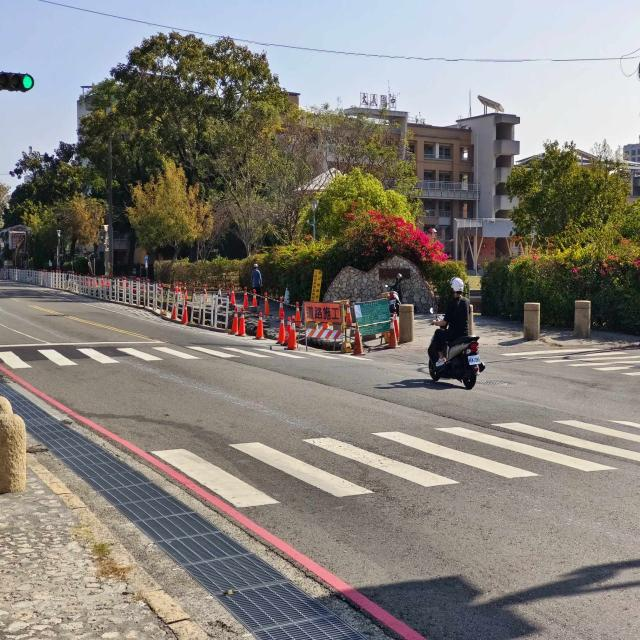person: (434, 277, 470, 370), (251, 263, 262, 295)
zebra crossing: (160, 415, 640, 509), (3, 347, 367, 369)
